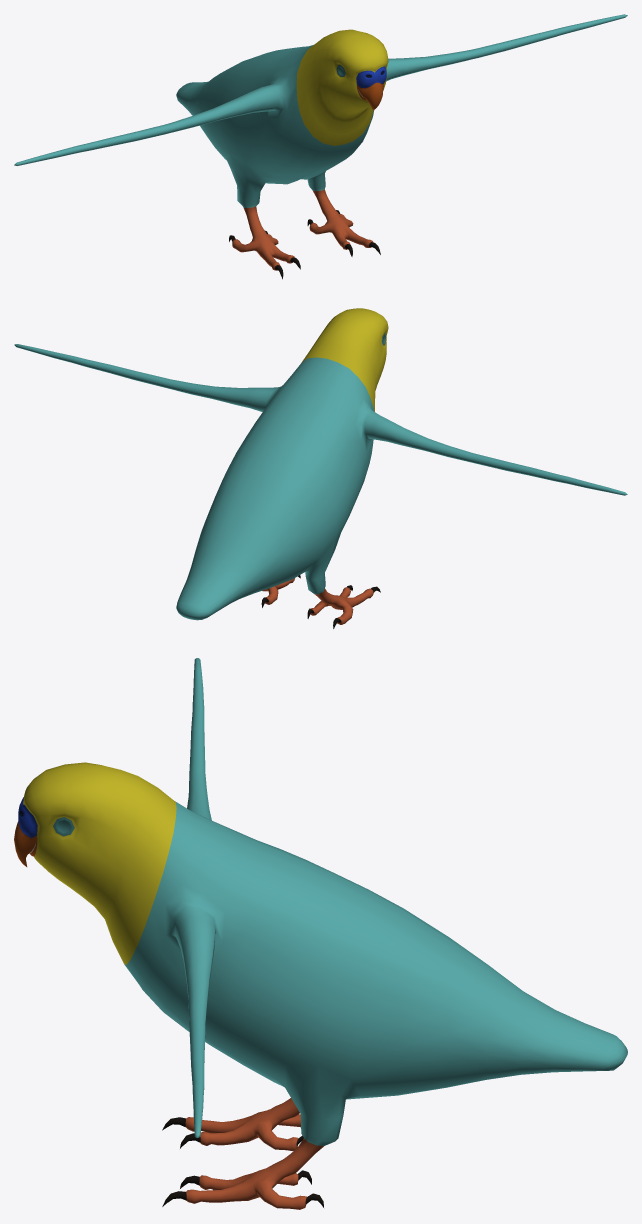
Rendered from budgie_budgie.obj.
3 views of the same model, one above another, from view 1: azimuth 30°, elevation 25°; view 2: azimuth 150°, elevation 25°; view 3: azimuth 270°, elevation 25° (orthographic). The views are drawn at different scales.
Visible parts, largest first — view 1: budgie; view 2: budgie; view 3: budgie.
Boxes of the visible parts, x1,y1,x2,y2 form: budgie: [14, 14, 627, 279]; budgie: [14, 308, 627, 628]; budgie: [14, 658, 627, 1209].
Size of the model in its own units: 0.3792 by 0.1471 by 0.205.
